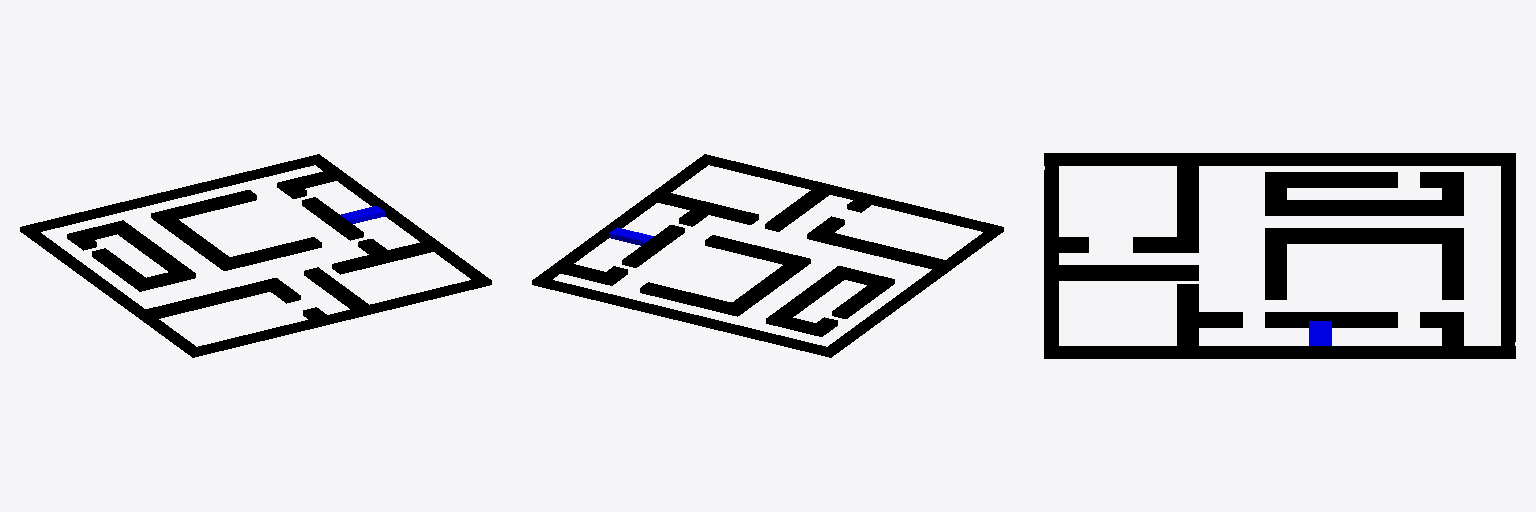
URDF robot description (gridmap_obstacles):
<?xml version="1.0" ?>
<robot name="gridmap_obstacles">
  <link name="north_wall">
          <inertial>
        <origin xyz="0 0 0" rpy="0 0 0"/>
            <mass value="1"/>
            <inertia ixx="100"  ixy="0"  ixz="0" iyy="100" iyz="0" izz="100" />
    </inertial>
    <visual>
      <origin rpy="0 0 0" xyz="0.5 -30.5 0"/>
      <geometry>
        <box size="2 64 1" />
      </geometry>
       <material name="grey">
        <color rgba="0 0 0 .5"/>
      </material>
    </visual>
    <collision>
      <origin rpy="0 0 0" xyz="0.5 -30.5 0"/>
      <geometry>
         <box size="2 64 1" />
      </geometry>
    </collision>
  </link>

  <link name="west_wall">
          <inertial>
        <origin xyz="0 0 0" rpy="0 0 0"/>
            <mass value="1"/>
            <inertia ixx="100"  ixy="0"  ixz="0" iyy="100" iyz="0" izz="100" />
    </inertial>
    <visual>
      <origin rpy="0 0 1.57075" xyz="-30.5 0.5 0"/>
      <geometry>
        <box size="2 64 1" />
      </geometry>
       <material name="grey">
        <color rgba="0 0 0 .5"/>
      </material>
    </visual>
    <collision>
      <origin rpy="0 0 1.57075" xyz="-30.5 0.5 0"/>
      <geometry>
         <box size="2 64 1" />
      </geometry>
    </collision>
  </link>

  <joint name="north_west" type="fixed">
      <parent link="north_wall"/>
      <child link="west_wall"/>
      <origin xyz="0 0 0"/>
  </joint>

  <link name="south_wall">
          <inertial>
        <origin xyz="0 0 0" rpy="0 0 0"/>
            <mass value="1"/>
            <inertia ixx="100"  ixy="0"  ixz="0" iyy="100" iyz="0" izz="100" />
    </inertial>
    <visual>
      <origin rpy="0 0 0" xyz="-30.5 0.5 0"/>
      <geometry>
        <box size="2 64 1" />
      </geometry>
       <material name="grey">
        <color rgba="0 0 0 .5"/>
      </material>
    </visual>
    <collision>
      <origin rpy="0 0 0" xyz="-30.5 0.5 0"/>
      <geometry>
         <box size="2 64 1" />
      </geometry>
    </collision>
  </link>

  <joint name="west_south" type="fixed">
      <parent link="west_wall"/>
      <child link="south_wall"/>
      <origin xyz="-31 -31 0"/>
  </joint>

  <link name="east_wall">
          <inertial>
        <origin xyz="0 0 0" rpy="0 0 0"/>
            <mass value="1"/>
            <inertia ixx="100"  ixy="0"  ixz="0" iyy="100" iyz="0" izz="100" />
    </inertial>
    <visual>
      <origin rpy="0 0 1.57075" xyz="0 0.5 0"/>
      <geometry>
        <box size="2 64 1" />
      </geometry>
       <material name="grey">
        <color rgba="0 0 0 .5"/>
      </material>
    </visual>
    <collision>
      <origin rpy="0 0 1.57075" xyz="0 0.5 0"/>
      <geometry>
         <box size="2 64 1" />
      </geometry>
    </collision>
  </link>

  <joint name="west_east" type="fixed">
      <parent link="west_wall"/>
      <child link="east_wall"/>
      <origin xyz="-30.5 -62 0"/>
  </joint>

  <link name="obs1">
          <inertial>
        <origin xyz="0 0 0" rpy="0 0 0"/>
            <mass value="1"/>
            <inertia ixx="100"  ixy="0"  ixz="0" iyy="100" iyz="0" izz="100" />
    </inertial>
    <visual>
      <origin rpy="0 0 0" xyz="0 0 0"/>
      <geometry>
        <box size="11 3 1" />
      </geometry>
       <material name="grey">
        <color rgba="0 0 0 .5"/>
      </material>
    </visual>
    <collision>
      <origin rpy="0 0 0" xyz="0 0 0"/>
      <geometry>
         <box size="11 3 1" />
      </geometry>
    </collision>
  </link>

  <joint name="obs1" type="fixed">
      <parent link="west_wall"/>
      <child link="obs1"/>
      <origin xyz="-6 -7 0"/>
  </joint>

  <link name="obs2">
          <inertial>
        <origin xyz="0 0 0" rpy="0 0 0"/>
            <mass value="1"/>
            <inertia ixx="100"  ixy="0"  ixz="0" iyy="100" iyz="0" izz="100" />
    </inertial>
    <visual>
      <origin rpy="0 0 0" xyz="0 0 0"/>
      <geometry>
        <box size="21 3 1" />
      </geometry>
       <material name="grey">
        <color rgba="0 0 0 .5"/>
      </material>
    </visual>
    <collision>
      <origin rpy="0 0 0" xyz="0 0 0"/>
      <geometry>
         <box size="21 3 1" />
      </geometry>
    </collision>
  </link>

  <joint name="obs2" type="fixed">
      <parent link="west_wall"/>
      <child link="obs2"/>
      <origin xyz="-28 -7 0"/>
  </joint>

  <link name="obs3">
          <inertial>
        <origin xyz="0 0 0" rpy="0 0 0"/>
            <mass value="1"/>
            <inertia ixx="100"  ixy="0"  ixz="0" iyy="100" iyz="0" izz="100" />
    </inertial>
    <visual>
      <origin rpy="0 0 0" xyz="0 0 0"/>
      <geometry>
        <box size="12 3 1" />
      </geometry>
       <material name="grey">
        <color rgba="0 0 0 .5"/>
      </material>
    </visual>
    <collision>
      <origin rpy="0 0 0" xyz="0 0 0"/>
      <geometry>
         <box size="12 3 1" />
      </geometry>
    </collision>
  </link>

  <joint name="obs3" type="fixed">
      <parent link="west_wall"/>
      <child link="obs3"/>
      <origin xyz="-50.5 -7 0"/>
  </joint>

  <link name="obs4">
          <inertial>
        <origin xyz="0 0 0" rpy="0 0 0"/>
            <mass value="1"/>
            <inertia ixx="100"  ixy="0"  ixz="0" iyy="100" iyz="0" izz="100" />
    </inertial>
    <visual>
      <origin rpy="0 0 0" xyz="0 0 0"/>
      <geometry>
        <box size="3 3 1" />
      </geometry>
       <material name="grey">
        <color rgba="- 0 0 .5"/>
      </material>
    </visual>
    <collision>
      <origin rpy="0 0 0" xyz="0 0 0"/>
      <geometry>
         <box size="3 3 1" />
      </geometry>
    </collision>
  </link>

  <joint name="obs4" type="fixed">
      <parent link="west_wall"/>
      <child link="obs4"/>
      <origin xyz="-10 -10 0"/>
  </joint>

  <link name="obs5">
          <inertial>
        <origin xyz="0 0 0" rpy="0 0 0"/>
            <mass value="1"/>
            <inertia ixx="100"  ixy="0"  ixz="0" iyy="100" iyz="0" izz="100" />
    </inertial>
    <visual>
      <origin rpy="0 0 0" xyz="0 0 0"/>
      <geometry>
        <box size="3 18 1" />
      </geometry>
       <material name="grey">
        <color rgba="0 0 0 .5"/>
      </material>
    </visual>
    <collision>
      <origin rpy="0 0 0" xyz="0 0 0"/>
      <geometry>
         <box size="3 18 1" />
      </geometry>
    </collision>
  </link>

  <joint name="obs5" type="fixed">
      <parent link="west_wall"/>
      <child link="obs5"/>
      <origin xyz="-10 -23.5 0"/>
  </joint>

  <link name="obs6">
          <inertial>
        <origin xyz="0 0 0" rpy="0 0 0"/>
            <mass value="1"/>
            <inertia ixx="100"  ixy="0"  ixz="0" iyy="100" iyz="0" izz="100" />
    </inertial>
    <visual>
      <origin rpy="0 0 0" xyz="0 0 0"/>
      <geometry>
        <box size="8 3 1" />
      </geometry>
       <material name="grey">
        <color rgba="0 0 1 .5"/>
      </material>
    </visual>
    <collision>
      <origin rpy="0 0 0" xyz="0 0 0"/>
      <geometry>
         <box size="8 3 1" />
      </geometry>
    </collision>
  </link>

  <joint name="obs6" type="fixed">
      <parent link="west_wall"/>
      <child link="obs6"/>
      <origin xyz="-4.5 -25 0"/>
  </joint>

  <link name="obs7">
          <inertial>
        <origin xyz="0 0 0" rpy="0 0 0"/>
            <mass value="1"/>
            <inertia ixx="100"  ixy="0"  ixz="0" iyy="100" iyz="0" izz="100" />
    </inertial>
    <visual>
      <origin rpy="0 0 0" xyz="0 0 0"/>
      <geometry>
        <box size="21 3 1" />
      </geometry>
       <material name="grey">
        <color rgba="0 0 0 .5"/>
      </material>
    </visual>
    <collision>
      <origin rpy="0 0 0" xyz="0 0 0"/>
      <geometry>
         <box size="21 3 1" />
      </geometry>
    </collision>
  </link>

  <joint name="obs7" type="fixed">
      <parent link="west_wall"/>
      <child link="obs7"/>
      <origin xyz="-28 -31 0"/>
  </joint>

  <link name="obs8">
          <inertial>
        <origin xyz="0 0 0" rpy="0 0 0"/>
            <mass value="1"/>
            <inertia ixx="100"  ixy="0"  ixz="0" iyy="100" iyz="0" izz="100" />
    </inertial>
    <visual>
      <origin rpy="0 0 0" xyz="0 0 0"/>
      <geometry>
        <box size="3 21 1" />
      </geometry>
       <material name="grey">
        <color rgba="0 0 0 .5"/>
      </material>
    </visual>
    <collision>
      <origin rpy="0 0 0" xyz="0 0 0"/>
      <geometry>
         <box size="3 21 1" />
      </geometry>
    </collision>
  </link>

  <joint name="obs8" type="fixed">
      <parent link="west_wall"/>
      <child link="obs8"/>
      <origin xyz="-37 -19 0"/>
  </joint>

  <link name="obs9">
          <inertial>
        <origin xyz="0 0 0" rpy="0 0 0"/>
            <mass value="1"/>
            <inertia ixx="100"  ixy="0"  ixz="0" iyy="100" iyz="0" izz="100" />
    </inertial>
    <visual>
      <origin rpy="0 0 0" xyz="0 0 0"/>
      <geometry>
        <box size="3 3 1" />
      </geometry>
       <material name="grey">
        <color rgba="0 0 0 .5"/>
      </material>
    </visual>
    <collision>
      <origin rpy="0 0 0" xyz="0 0 0"/>
      <geometry>
         <box size="3 3 1" />
      </geometry>
    </collision>
  </link>

  <joint name="obs9" type="fixed">
      <parent link="west_wall"/>
      <child link="obs9"/>
      <origin xyz="-55 -10 0"/>
  </joint>

  <link name="obs10">
          <inertial>
        <origin xyz="0 0 0" rpy="0 0 0"/>
            <mass value="1"/>
            <inertia ixx="100"  ixy="0"  ixz="0" iyy="100" iyz="0" izz="100" />
    </inertial>
    <visual>
      <origin rpy="0 0 0" xyz="0 0 0"/>
      <geometry>
        <box size="3 18 1"/>
      </geometry>
       <material name="grey">
        <color rgba="0 0 0 .5"/>
      </material>
    </visual>
    <collision>
      <origin rpy="0 0 0" xyz="0 0 0"/>
      <geometry>
         <box size="3 18 1" />
      </geometry>
    </collision>
  </link>

  <joint name="obs10" type="fixed">
      <parent link="west_wall"/>
      <child link="obs10"/>
      <origin xyz="-55 -23.5 0"/>
  </joint>

  <link name="obs11">
          <inertial>
        <origin xyz="0 0 0" rpy="0 0 0"/>
            <mass value="1"/>
            <inertia ixx="100"  ixy="0"  ixz="0" iyy="100" iyz="0" izz="100" />
    </inertial>
    <visual>
      <origin rpy="0 0 0" xyz="0 0 0"/>
      <geometry>
        <box size="6 3 1" />
      </geometry>
       <material name="grey">
        <color rgba="0 0 0 .5"/>
      </material>
    </visual>
    <collision>
      <origin rpy="0 0 0" xyz="0 0 0"/>
      <geometry>
         <box size="6 3 1" />
      </geometry>
    </collision>
  </link>

  <joint name="obs11" type="fixed">
      <parent link="west_wall"/>
      <child link="obs11"/>
      <origin xyz="-50.5 -31 0"/>
  </joint>

  <link name="obs12">
          <inertial>
        <origin xyz="0 0 0" rpy="0 0 0"/>
            <mass value="1"/>
            <inertia ixx="100"  ixy="0"  ixz="0" iyy="100" iyz="0" izz="100" />
    </inertial>
    <visual>
      <origin rpy="0 0 0" xyz="0 0 0"/>
      <geometry>
        <box size="3 24 1" />
      </geometry>
       <material name="grey">
        <color rgba="0 0 0 .5"/>
      </material>
    </visual>
    <collision>
      <origin rpy="0 0 0" xyz="0 0 0"/>
      <geometry>
         <box size="3 24 1" />
      </geometry>
    </collision>
  </link>

  <joint name="obs12" type="fixed">
      <parent link="west_wall"/>
      <child link="obs12"/>
      <origin xyz="-46 -20.5 0"/>
  </joint>

  <link name="obs13">
          <inertial>
        <origin xyz="0 0 0" rpy="0 0 0"/>
            <mass value="1"/>
            <inertia ixx="100"  ixy="0"  ixz="0" iyy="100" iyz="0" izz="100" />
    </inertial>
    <visual>
      <origin rpy="0 0 0" xyz="0 0 0"/>
      <geometry>
        <box size="3 6 1" />
      </geometry>
       <material name="grey">
        <color rgba="0 0 0 .5"/>
      </material>
    </visual>
    <collision>
      <origin rpy="0 0 0" xyz="0 0 0"/>
      <geometry>
         <box size="3 6 1" />
      </geometry>
    </collision>
  </link>

  <joint name="obs13" type="fixed">
      <parent link="west_wall"/>
      <child link="obs13"/>
      <origin xyz="-10 -38.5 0"/>
  </joint>

  <link name="obs14">
          <inertial>
        <origin xyz="0 0 0" rpy="0 0 0"/>
            <mass value="1"/>
            <inertia ixx="100"  ixy="0"  ixz="0" iyy="100" iyz="0" izz="100" />
    </inertial>
    <visual>
      <origin rpy="0 0 0" xyz="0 0 0"/>
      <geometry>
        <box size="20 3 1" />
      </geometry>
       <material name="grey">
        <color rgba="0 0 0 .5"/>
      </material>
    </visual>
    <collision>
      <origin rpy="0 0 0" xyz="0 0 0"/>
      <geometry>
         <box size="20 3 1" />
      </geometry>
    </collision>
  </link>

  <joint name="obs14" type="fixed">
      <parent link="west_wall"/>
      <child link="obs14"/>
      <origin xyz="-10.5 -43 0"/>
  </joint>

  <link name="obs15">
          <inertial>
        <origin xyz="0 0 0" rpy="0 0 0"/>
            <mass value="1"/>
            <inertia ixx="100"  ixy="0"  ixz="0" iyy="100" iyz="0" izz="100" />
    </inertial>
    <visual>
      <origin rpy="0 0 0" xyz="0 0 0"/>
      <geometry>
        <box size="3 19 1" />
      </geometry>
       <material name="grey">
        <color rgba="0 0 0 .5"/>
      </material>
    </visual>
    <collision>
      <origin rpy="0 0 0" xyz="0 0 0"/>
      <geometry>
         <box size="3 19 1" />
      </geometry>
    </collision>
  </link>

  <joint name="obs15" type="fixed">
      <parent link="west_wall"/>
      <child link="obs15"/>
      <origin xyz="-25 -51 0"/>
  </joint>

  <link name="obs16">
          <inertial>
        <origin xyz="0 0 0" rpy="0 0 0"/>
            <mass value="1"/>
            <inertia ixx="100"  ixy="0"  ixz="0" iyy="100" iyz="0" izz="100" />
    </inertial>
    <visual>
      <origin rpy="0 0 0" xyz="0 0 0"/>
      <geometry>
        <box size="28 3 1" />
      </geometry>
       <material name="grey">
        <color rgba="0 0 0 .5"/>
      </material>
    </visual>
    <collision>
      <origin rpy="0 0 0" xyz="0 0 0"/>
      <geometry>
         <box size="28 3 1" />
      </geometry>
    </collision>
  </link>

  <joint name="obs16" type="fixed">
      <parent link="west_wall"/>
      <child link="obs16"/>
      <origin xyz="-46.5 -43 0"/>
  </joint>

  <link name="obs17">
          <inertial>
        <origin xyz="0 0 0" rpy="0 0 0"/>
            <mass value="1"/>
            <inertia ixx="100"  ixy="0"  ixz="0" iyy="100" iyz="0" izz="100" />
    </inertial>
    <visual>
      <origin rpy="0 0 0" xyz="0 0 0"/>
      <geometry>
        <box size="3 6 1" />
      </geometry>
       <material name="grey">
        <color rgba="0 0 0 .5"/>
      </material>
    </visual>
    <collision>
      <origin rpy="0 0 0" xyz="0 0 0"/>
      <geometry>
         <box size="3 6 1" />
      </geometry>
    </collision>
  </link>

  <joint name="obs17" type="fixed">
      <parent link="west_wall"/>
      <child link="obs17"/>
      <origin xyz="-34 -47.5 0"/>
  </joint>

  <link name="obs18">
          <inertial>
        <origin xyz="0 0 0" rpy="0 0 0"/>
            <mass value="1"/>
            <inertia ixx="100"  ixy="0"  ixz="0" iyy="100" iyz="0" izz="100" />
    </inertial>
    <visual>
      <origin rpy="0 0 0" xyz="0 0 0"/>
      <geometry>
        <box size="3 4 1" />
      </geometry>
       <material name="grey">
        <color rgba="0 0 0 .5"/>
      </material>
    </visual>
    <collision>
      <origin rpy="0 0 0" xyz="0 0 0"/>
      <geometry>
         <box size="3 4 1" />
      </geometry>
    </collision>
  </link>

  <joint name="obs18" type="fixed">
      <parent link="west_wall"/>
      <child link="obs18"/>
      <origin xyz="-34 -58.5 0"/>
  </joint>
</robot>

--- Facts derived from the render (not from the file) ---
Views: 3 orthographic renders of the robot side by side, from view 1: azimuth 30°, elevation 25°; view 2: azimuth 150°, elevation 25°; view 3: azimuth 270°, elevation 25°.
Model gridmap_obstacles with 22 links and 21 joints (21 fixed), rooted at north_wall, posed all joints at 0.
Visible links, largest first — view 1: east_wall, west_wall, south_wall, north_wall, obs16, obs7, obs14, obs12, obs2, obs8, obs5, obs10 (+3 smaller); view 2: west_wall, east_wall, south_wall, north_wall, obs16, obs2, obs7, obs12, obs14, obs8, obs15, obs5 (+3 smaller); view 3: north_wall, south_wall, west_wall, east_wall, obs12, obs8, obs15, obs16, obs10, obs5, obs2, obs7 (+6 smaller).
Boxes of the visible links, bbox=[...] form: east_wall: bbox=[188, 278, 491, 357]; west_wall: bbox=[23, 155, 323, 234]; south_wall: bbox=[20, 225, 201, 357]; north_wall: bbox=[313, 154, 490, 281]; obs16: bbox=[146, 278, 283, 318]; obs7: bbox=[216, 237, 321, 270]; obs14: bbox=[332, 241, 433, 274]; obs12: bbox=[117, 226, 195, 281]; obs2: bbox=[151, 190, 256, 223]; obs8: bbox=[159, 216, 228, 264]; obs5: bbox=[302, 197, 363, 240]; obs10: bbox=[92, 248, 153, 291]; west_wall: bbox=[533, 278, 835, 357]; east_wall: bbox=[702, 155, 1003, 232]; south_wall: bbox=[822, 225, 1001, 357]; north_wall: bbox=[532, 154, 712, 286]; obs16: bbox=[807, 228, 944, 269]; obs2: bbox=[640, 282, 745, 316]; obs7: bbox=[705, 235, 810, 268]; obs12: bbox=[775, 266, 851, 316]; obs14: bbox=[658, 192, 758, 224]; obs8: bbox=[732, 261, 802, 310]; obs15: bbox=[765, 187, 829, 231]; obs5: bbox=[622, 225, 684, 267]; north_wall: bbox=[1044, 346, 1515, 358]; south_wall: bbox=[1044, 153, 1510, 165]; west_wall: bbox=[1501, 153, 1515, 358]; east_wall: bbox=[1044, 153, 1058, 358]; obs12: bbox=[1265, 200, 1441, 215]; obs8: bbox=[1287, 228, 1441, 243]; obs15: bbox=[1059, 265, 1198, 280]; obs16: bbox=[1177, 159, 1198, 252]; obs10: bbox=[1265, 172, 1397, 187]; obs5: bbox=[1265, 312, 1397, 327]; obs2: bbox=[1442, 228, 1463, 299]; obs7: bbox=[1265, 228, 1286, 299].
Bounding box of the posed robot: 64 × 64 × 1 m (x, y, z).
Geometry: primitives only (box / cylinder / sphere), no mesh files.
